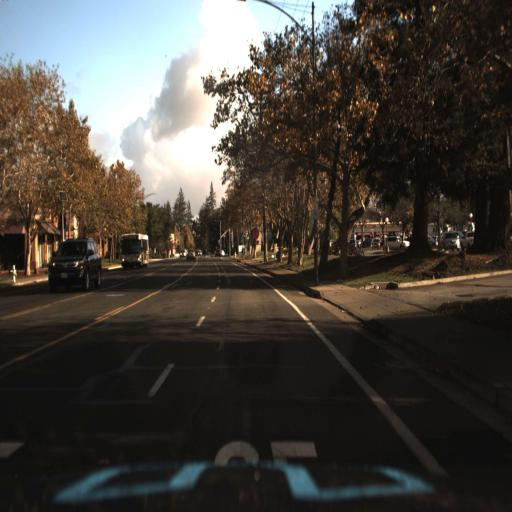car: (46, 237, 104, 291), (440, 228, 460, 253), (458, 231, 477, 253), (383, 235, 408, 251), (185, 246, 196, 264), (180, 250, 186, 258), (215, 249, 221, 257), (197, 250, 202, 256), (220, 250, 225, 256)
truck: (118, 230, 148, 273)
